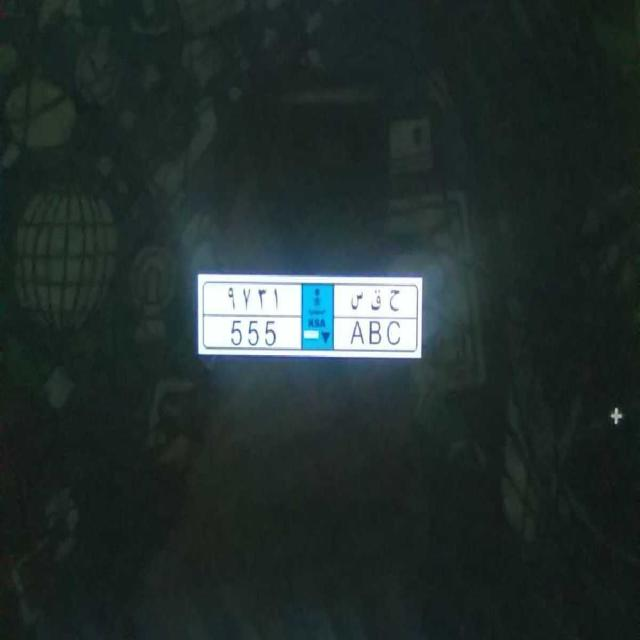license_plate: (218, 312, 410, 360)
